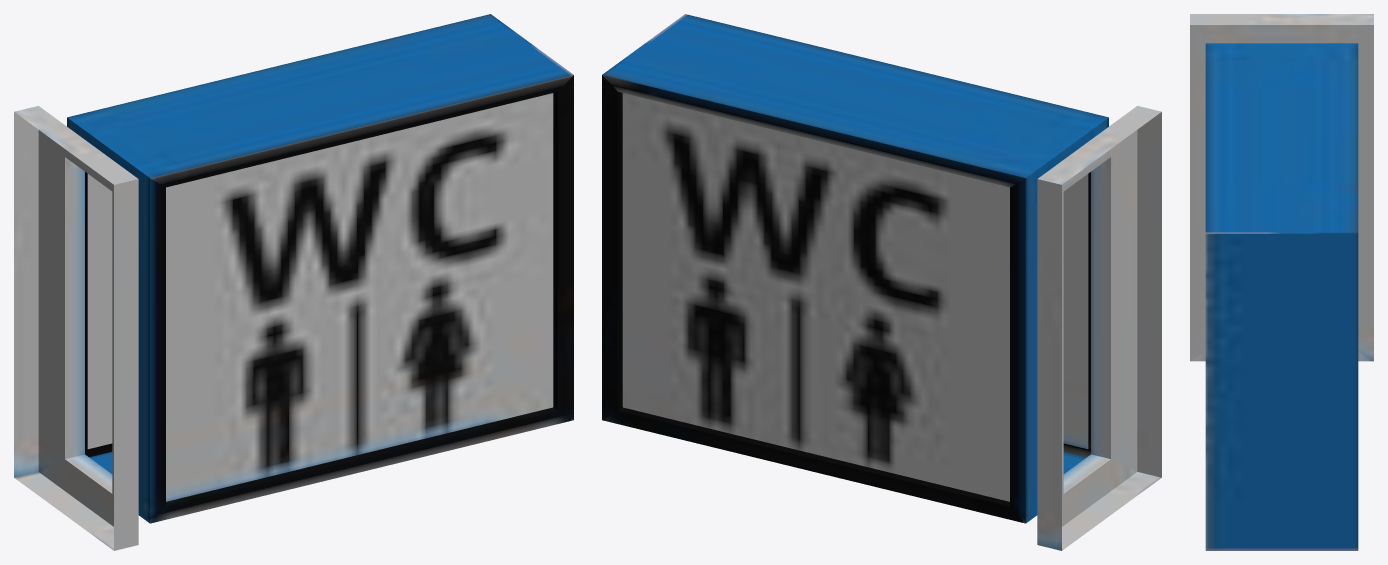
The model's file is sign-wc.glb.
The picture shows the model from 3 angles, left to right: view 1: azimuth 30°, elevation 25°; view 2: azimuth 150°, elevation 25°; view 3: azimuth 270°, elevation 25°; orthographic projection. The views are drawn at different scales.
Visible parts, largest first — view 1: Plane; view 2: Plane; view 3: Plane.
Boxes of the visible parts, x1,y1,x2,y2 form: Plane: (14,14,573,550); Plane: (602,14,1161,550); Plane: (1190,14,1373,550).
Bounding box in the file's own units: 2.94 × 2.2 × 1.09.
1 material, 1 textured.
